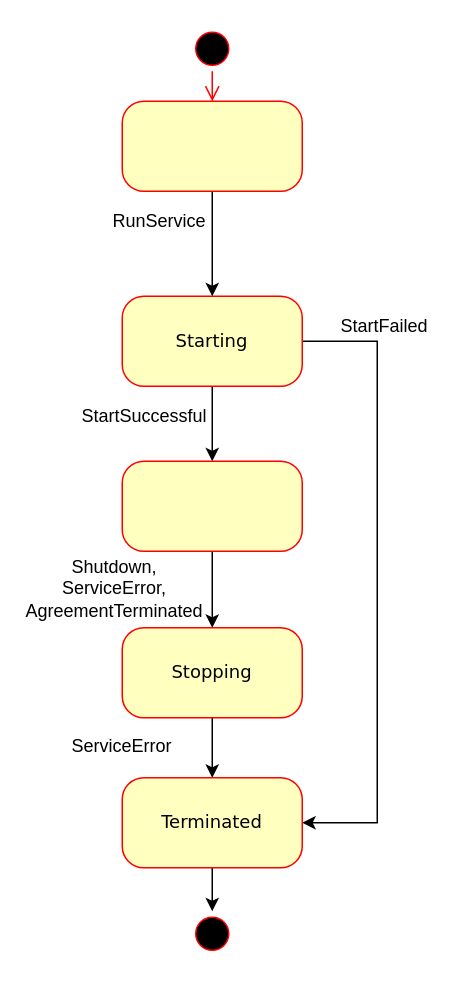
The diagram is 462 pixels wide and 983 high, and some of its shapes have lost their labels. The box of each missing label's shape, as (x1, y1, x2, y2) in pixels:
Running: (121, 460, 302, 551)
Void: (121, 100, 302, 191)
